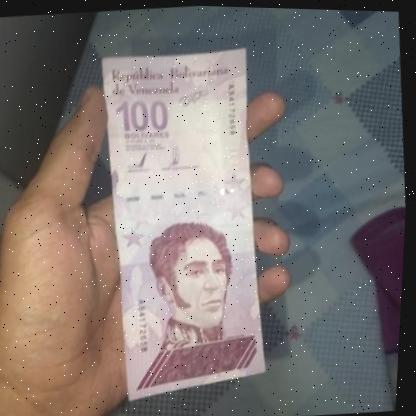one_hundred-front-vef: (90, 43, 287, 407)
